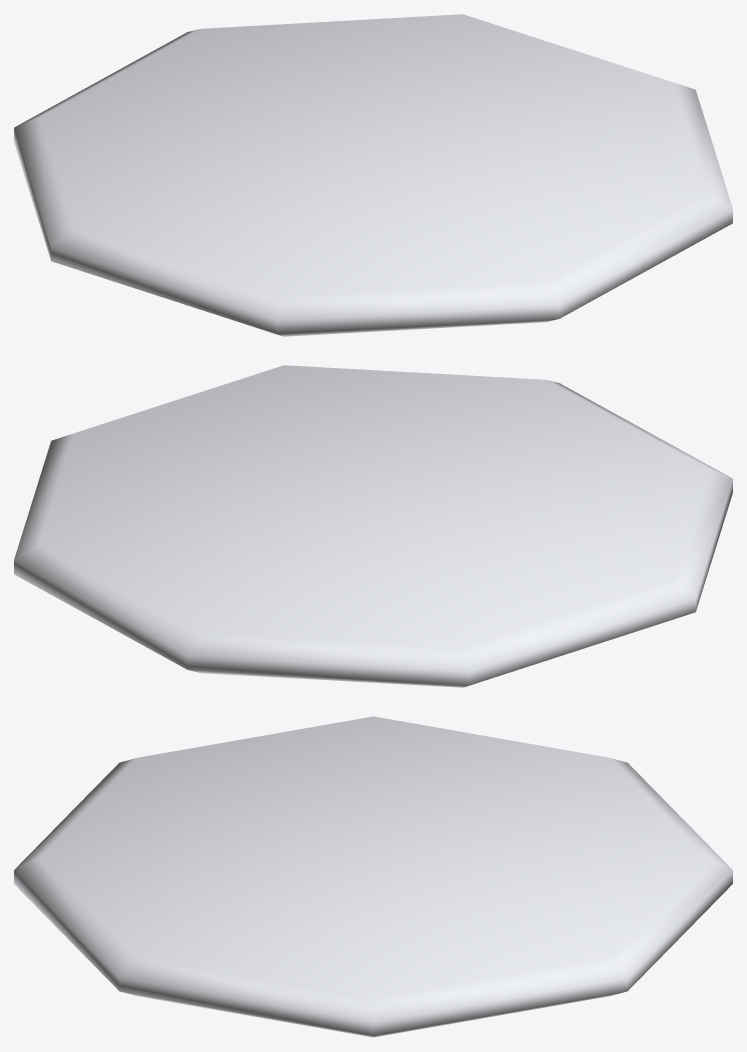
Rendered from cloth.glb.
3 views of the same model, one above another, from view 1: azimuth 30°, elevation 25°; view 2: azimuth 150°, elevation 25°; view 3: azimuth 270°, elevation 25° (orthographic). The views are drawn at different scales.
Visible parts, largest first — view 1: cleaning_pads.001; view 2: cleaning_pads.001; view 3: cleaning_pads.001.
Boxes of the visible parts, left/top/right/bottom form: cleaning_pads.001: left=14, top=14, right=732, bottom=336; cleaning_pads.001: left=14, top=365, right=732, bottom=687; cleaning_pads.001: left=14, top=716, right=732, bottom=1037.
Bounding box in the file's own units: 9.68 × 0.5717 × 9.68.
1 material, 1 textured.
